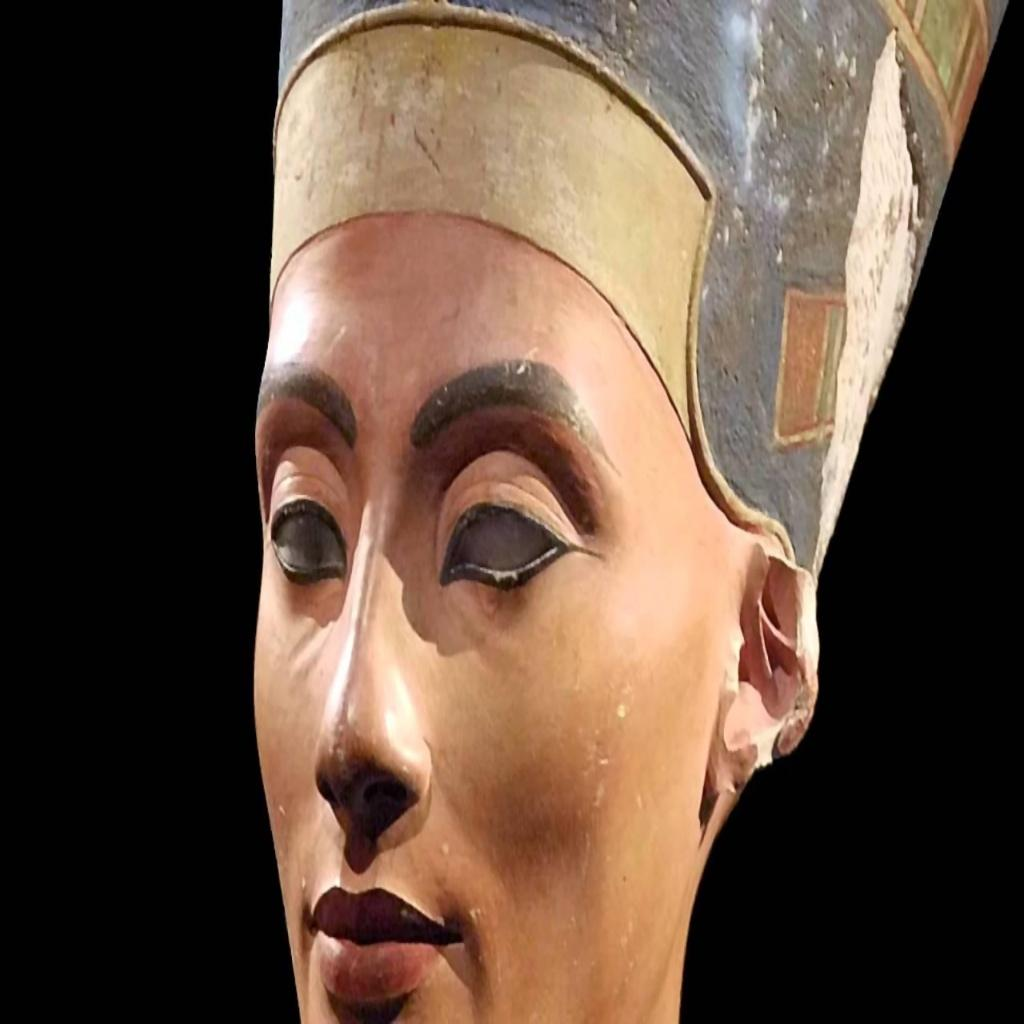Nefertiti: (248, 0, 1024, 1024)
